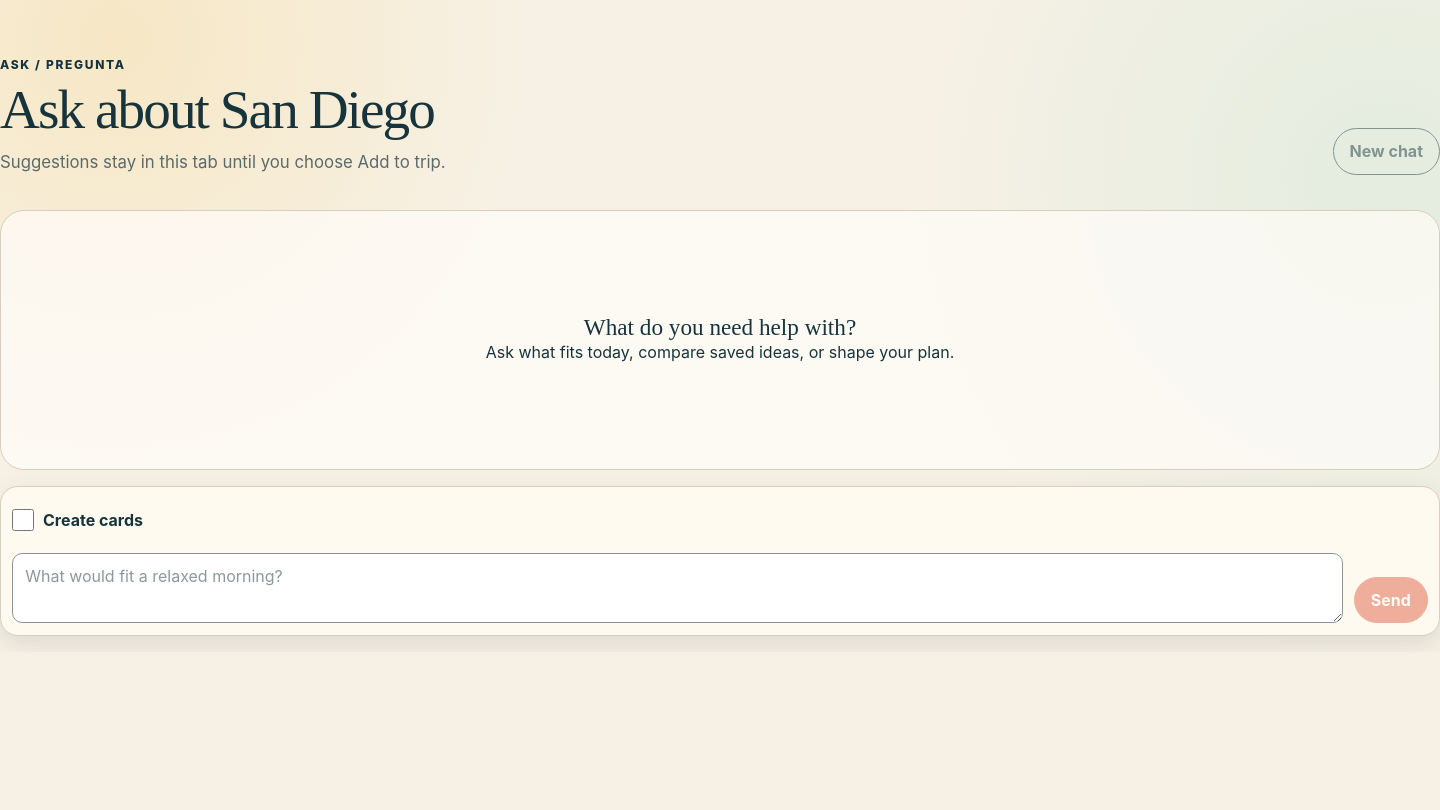
Scenario: cancels and confirms a tab-local new chat reset
Type "Suggest a place" into the text box named "Ask about this trip" at (678, 588), box [12,552,1343,623]
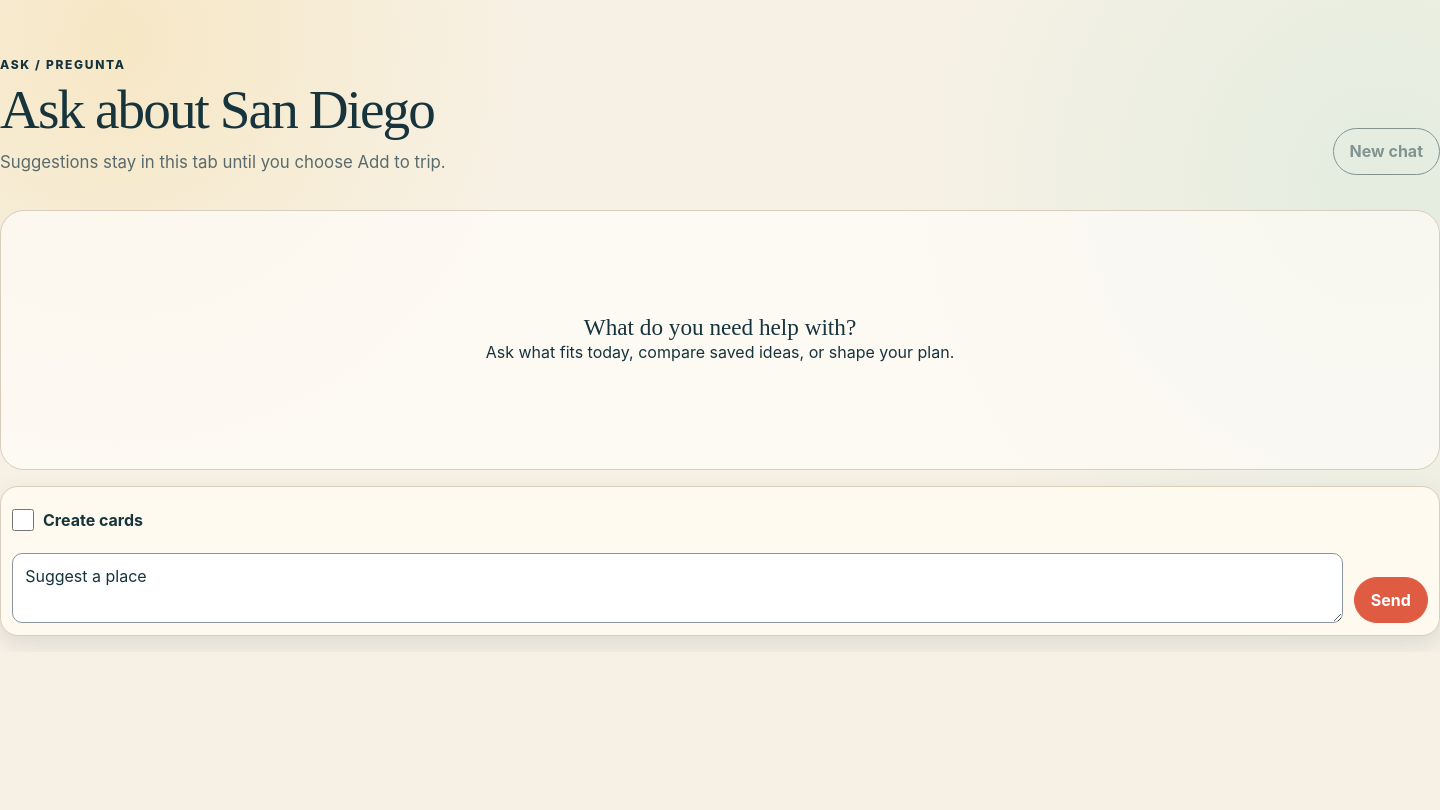
Press Enter in the text box named "Ask about this trip", box [12,552,1343,623]
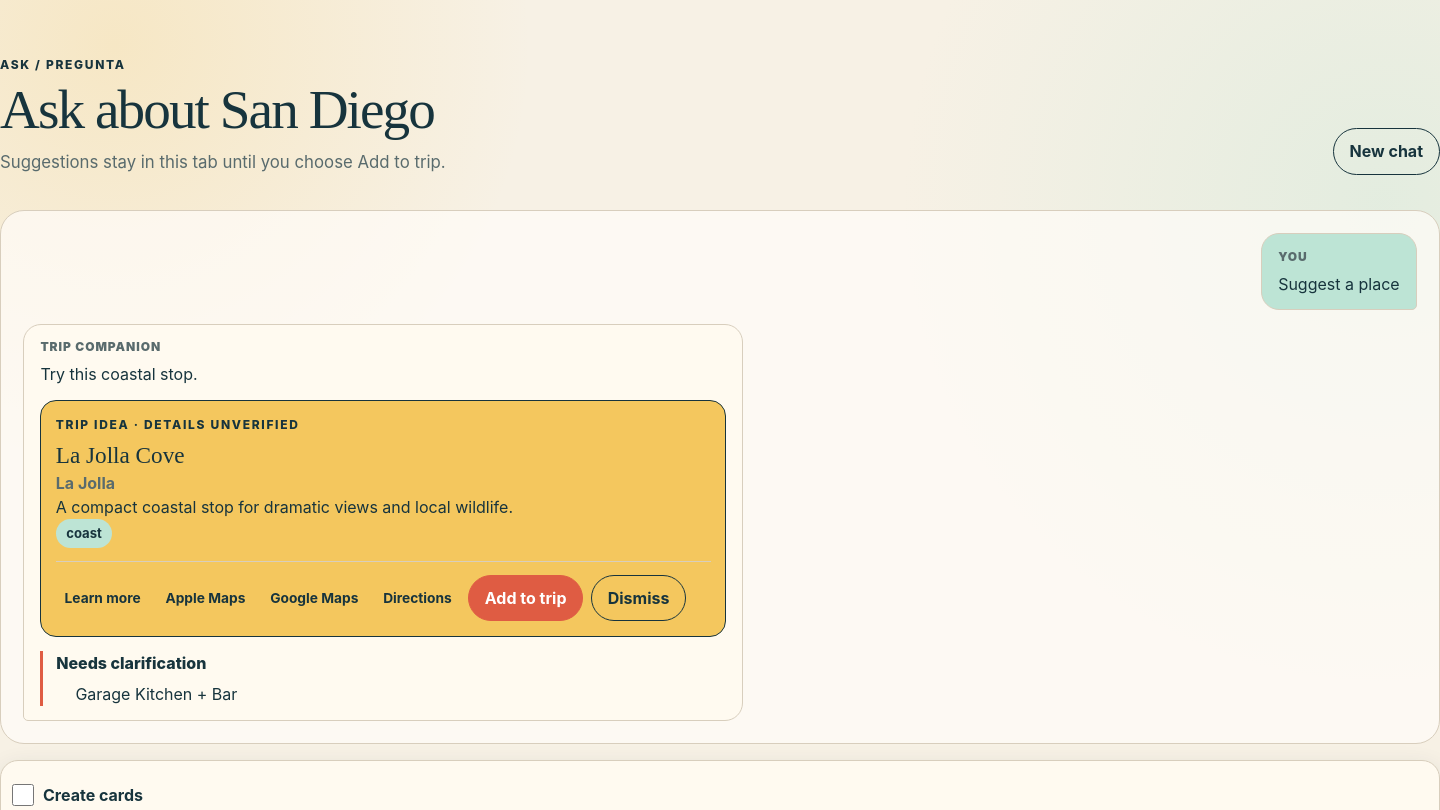
Now the text "Try this coastal stop." is shown, box [40,364,198,384]
Now the button "New chat" is enabled
Click the button "New chat" at (1386, 151), box [1333,128,1439,175]
(page scrolled)
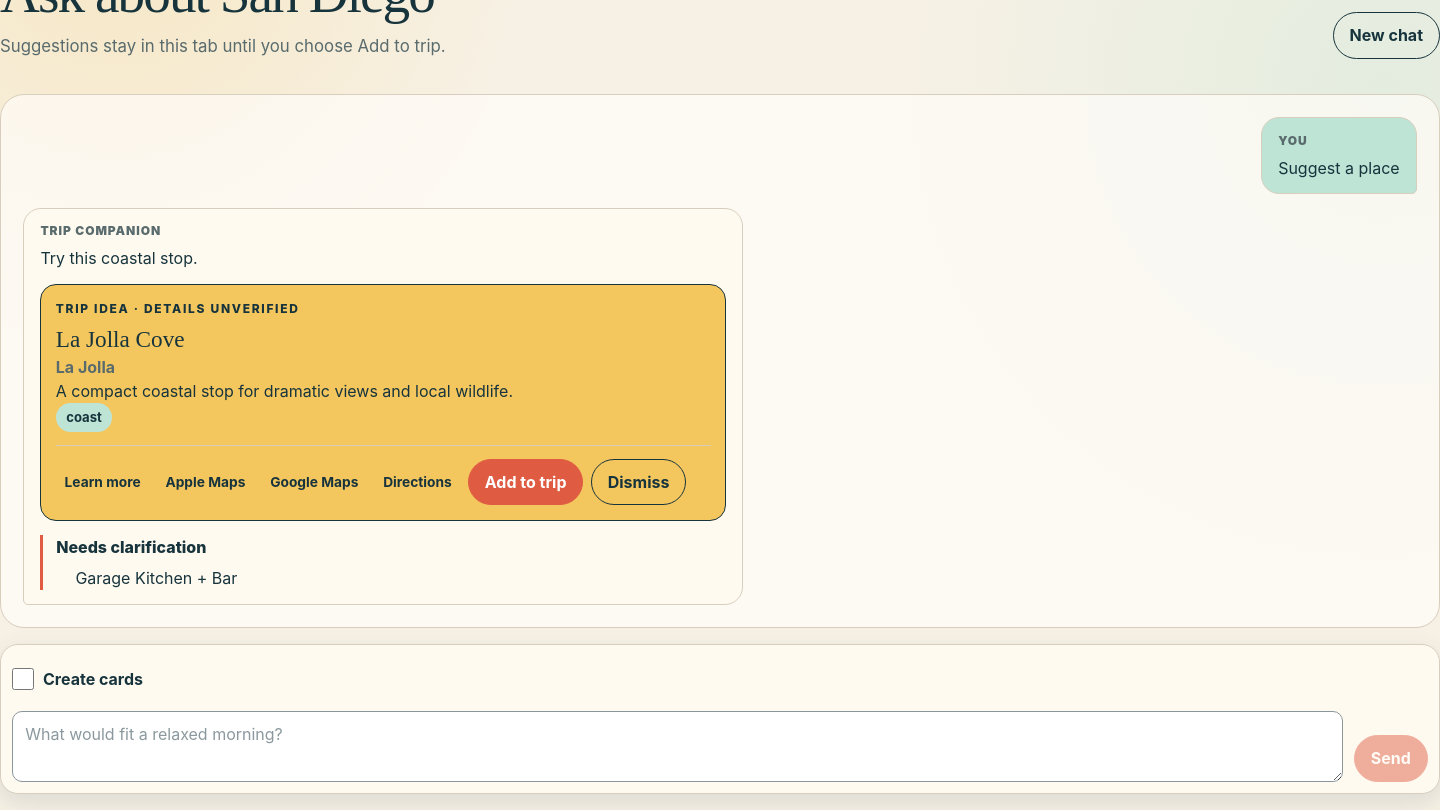
Now the text "Try this coastal stop." is shown, box [40,248,198,268]
Type "draft" into the text box named "Ask about this trip" at (678, 746), box [12,711,1343,782]
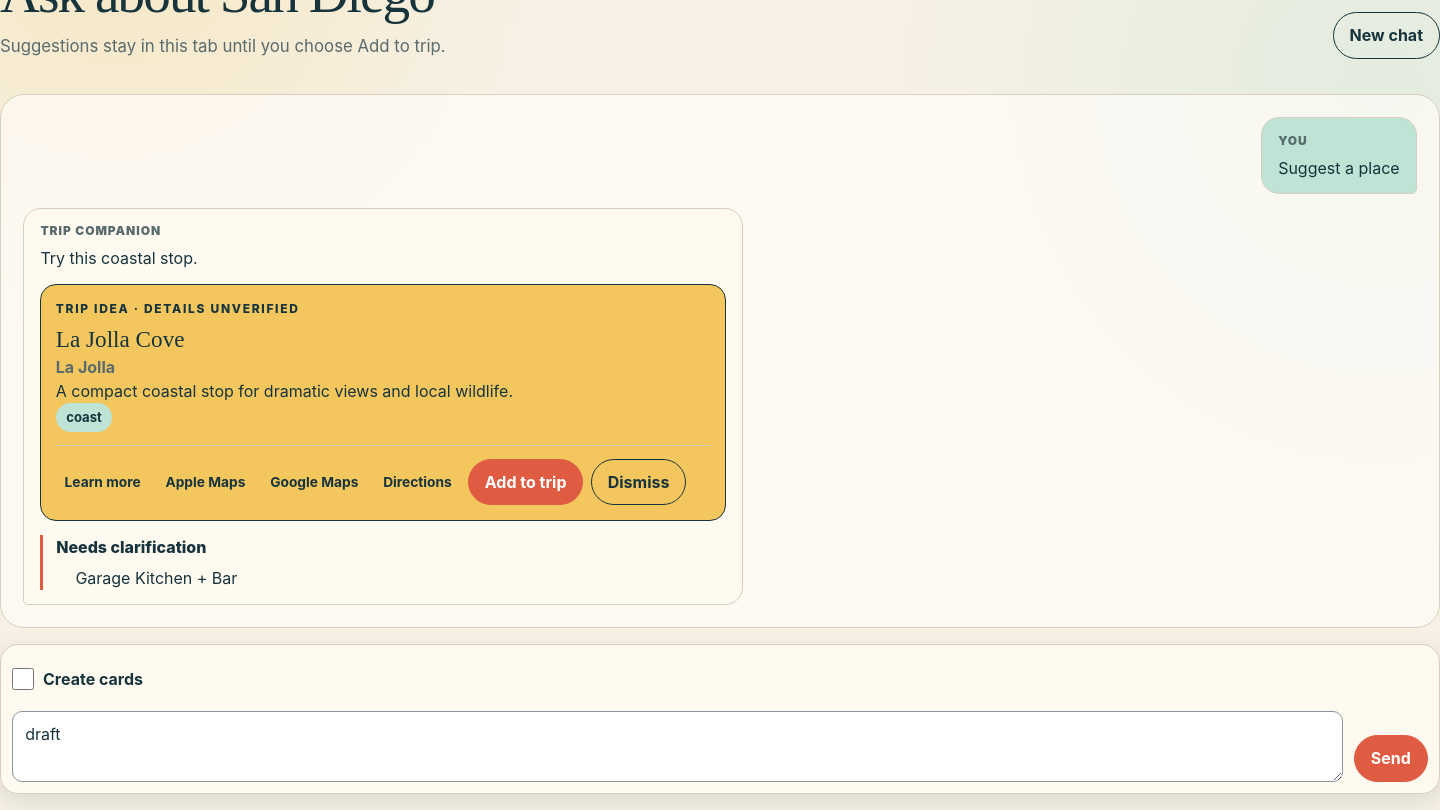
Click the button "New chat" at (1386, 35), box [1333,12,1439,59]
(page scrolled)
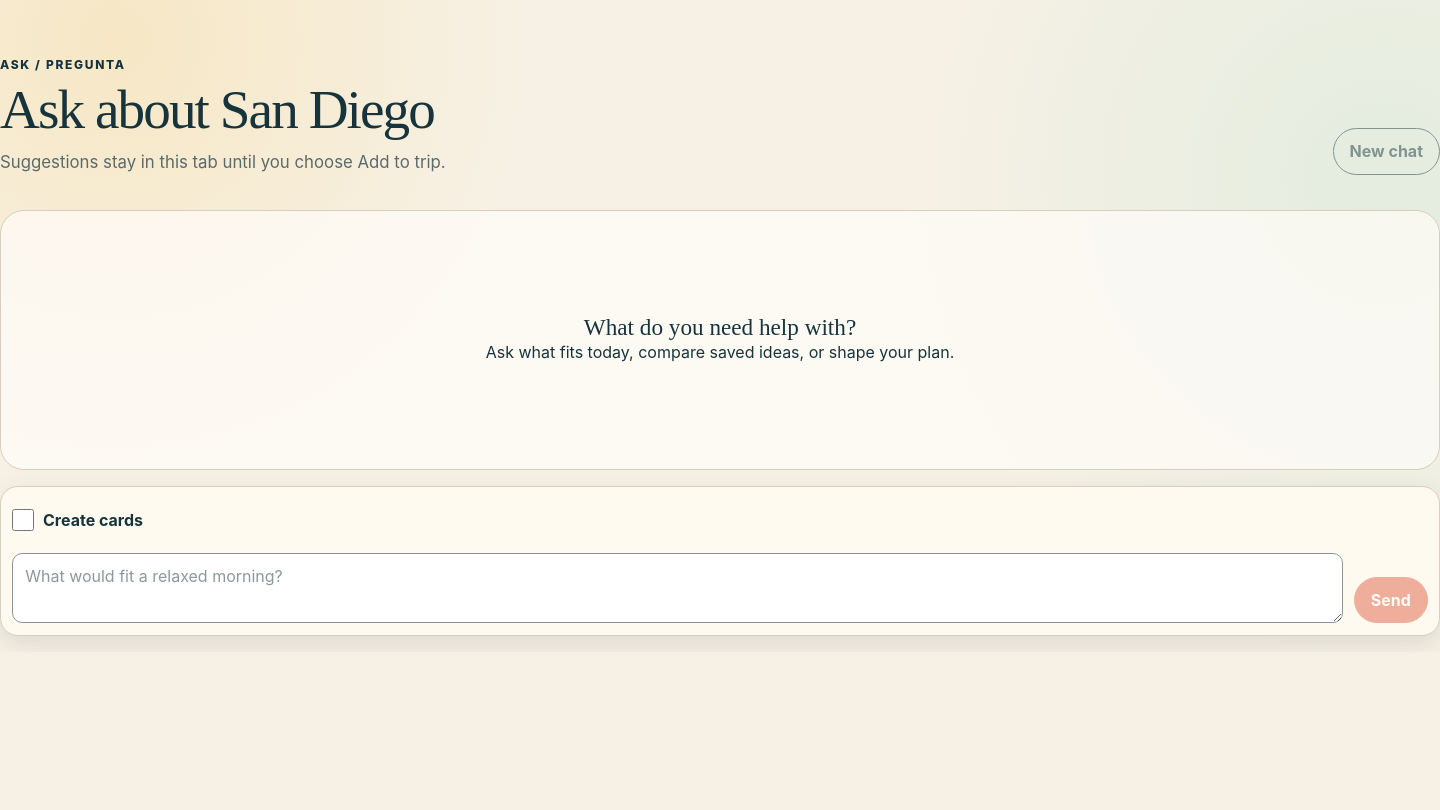
Now the heading "What do you need help with?" is shown, box [584,314,856,340]
Now the text "Try this coastal stop." is gone
Now the list item "Garage Kitchen + Bar" is gone
